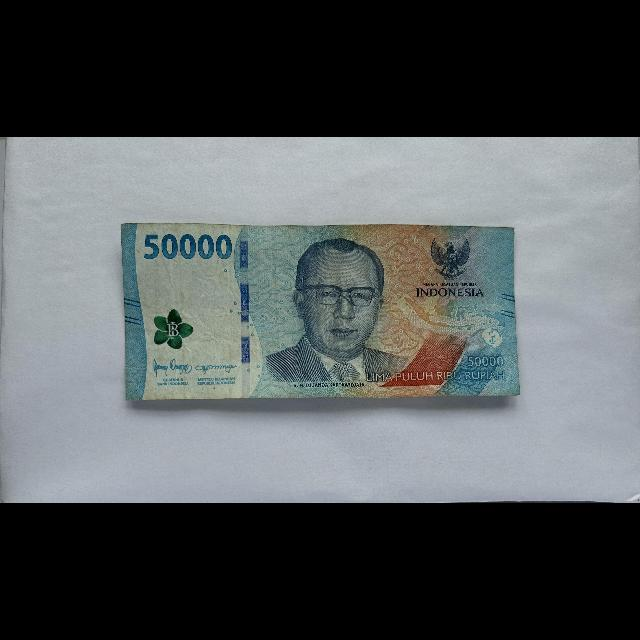Asli-50k: (119, 222, 521, 403)
Tinta-Asli-50k: (152, 308, 194, 351)
